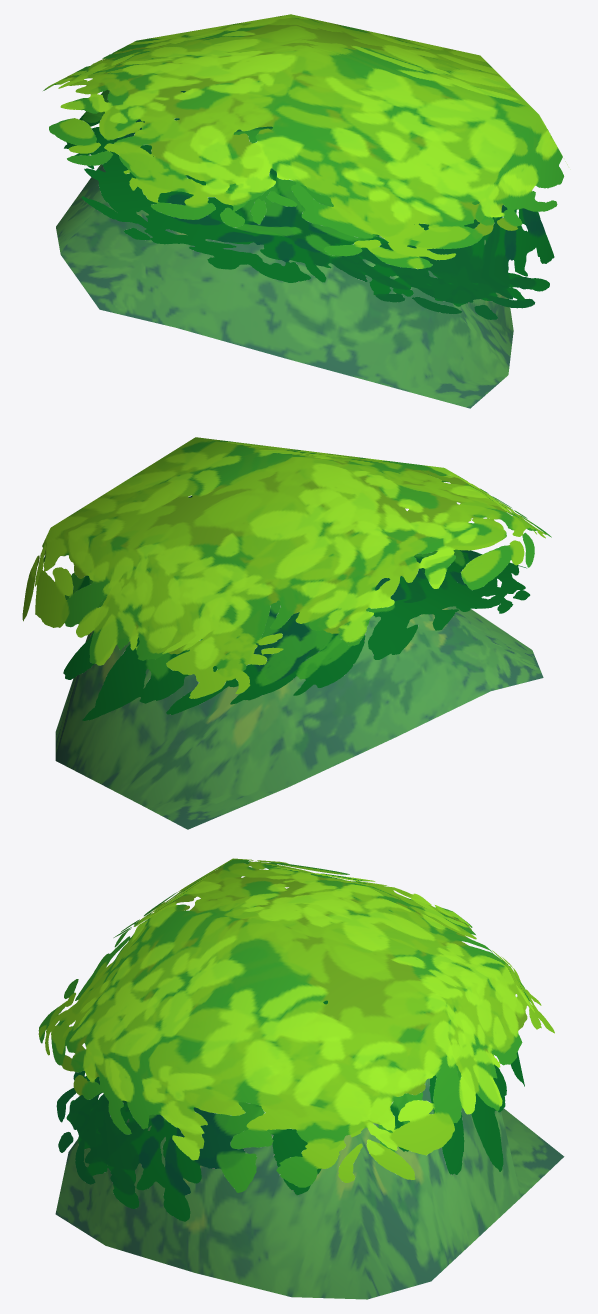
The model's file is Bush_Deco.fbx.
3 views of the same model, one above another, from view 1: azimuth 30°, elevation 25°; view 2: azimuth 150°, elevation 25°; view 3: azimuth 270°, elevation 25° (orthographic). The views are drawn at different scales.
Visible parts, largest first — view 1: Bidding2D_Bush.001, Bidding2D_Bush, Bidding2D_Bush.002; view 2: Bidding2D_Bush.001, Bidding2D_Bush, Bidding2D_Bush.002; view 3: Bidding2D_Bush.001, Bidding2D_Bush, Bidding2D_Bush.002.
Boxes of the visible parts, <box> form: Bidding2D_Bush.001: <box>43,14,567,269</box>; Bidding2D_Bush: <box>56,164,513,408</box>; Bidding2D_Bush.002: <box>64,90,554,319</box>; Bidding2D_Bush.001: <box>22,437,551,698</box>; Bidding2D_Bush: <box>55,606,543,829</box>; Bidding2D_Bush.002: <box>63,496,530,720</box>; Bidding2D_Bush.001: <box>38,858,554,1187</box>; Bidding2D_Bush: <box>55,1078,564,1299</box>; Bidding2D_Bush.002: <box>56,1000,524,1221</box>.
Size of the model in its own units: 78.5 by 42.83 by 79.17.
